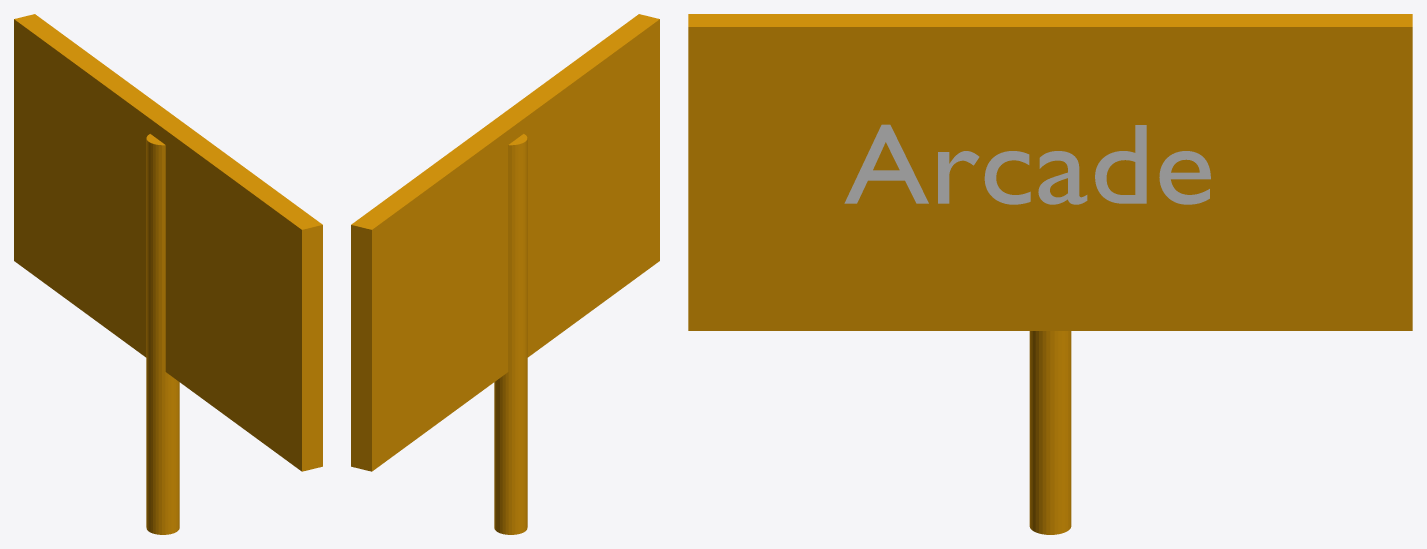
The model's file is Kyltti14.fbx.
3 views of the same model, side by side, from view 1: azimuth 30°, elevation 25°; view 2: azimuth 150°, elevation 25°; view 3: azimuth 270°, elevation 25° (orthographic). The views are drawn at different scales.
Parts seen in each view (by area): view 1: Kyltti14, Cylinder.013; view 2: Kyltti14, Cylinder.013; view 3: Kyltti14, Text.015, Cylinder.013.
Boxes of the visible parts, x1,y1,x2,y2 form: Kyltti14: (14, 14, 322, 471); Cylinder.013: (146, 134, 179, 534); Kyltti14: (351, 14, 659, 471); Cylinder.013: (494, 134, 527, 534); Kyltti14: (688, 14, 1412, 330); Text.015: (844, 124, 1210, 204); Cylinder.013: (1029, 331, 1071, 534).
Bounding box in the file's own units: 36.68 × 442 × 570.
